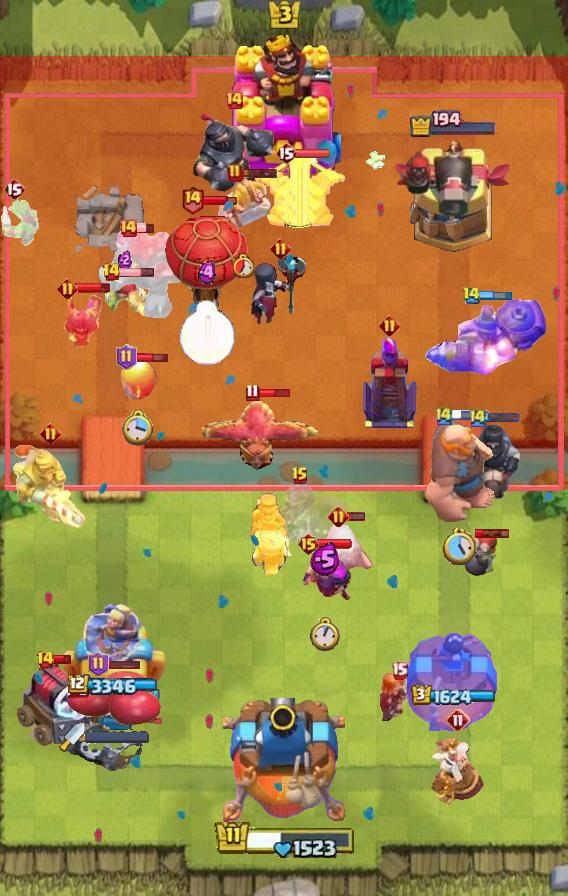balloon: (422, 416, 496, 524)
bar: (59, 595, 169, 731)
barbarian-hut: (248, 478, 352, 556)
cannon-cart: (164, 203, 250, 321)
cannoneer-tower: (96, 226, 186, 320)
clock: (214, 818, 354, 859)
electro-spirit: (310, 543, 340, 577), (198, 259, 216, 284), (118, 250, 132, 271)
elite-barbarian: (246, 492, 292, 576)
elixir: (179, 300, 236, 366), (443, 527, 477, 565), (122, 410, 154, 447), (310, 616, 340, 651), (233, 253, 255, 279)
elixir-collector: (429, 736, 487, 806)
emote: (135, 352, 170, 365), (241, 167, 278, 179), (295, 148, 331, 160), (202, 194, 238, 206), (75, 282, 111, 294), (317, 538, 353, 550), (256, 387, 291, 399), (118, 266, 155, 277), (485, 413, 521, 424), (106, 658, 142, 669), (478, 290, 513, 301), (474, 528, 509, 539), (452, 410, 490, 420), (52, 654, 72, 665), (136, 222, 155, 233), (347, 511, 366, 522)
goblin-giant: (217, 177, 270, 229)
golden-knight: (61, 291, 103, 351)
golem: (15, 658, 101, 748)
hog: (118, 358, 158, 402)
hog-rider: (375, 673, 423, 723)
ice-golem: (102, 274, 148, 316), (460, 530, 500, 578)
ice-spirit-evolution-symbol: (359, 334, 419, 430)
inferno-dragon: (457, 422, 521, 505)
king-tower: (227, 29, 341, 181), (223, 698, 345, 826)
king-tower-bar: (85, 731, 149, 743)
lava-pup: (251, 149, 349, 231)
mother-witch: (202, 398, 320, 472)
queen-tower: (407, 633, 499, 731)
ram-rider: (11, 441, 89, 531)
rascal-boy: (250, 252, 310, 328)
rascal-girl: (298, 547, 352, 605)
royal-guardian: (190, 110, 278, 196)
royal-recruit-evolution: (62, 669, 164, 777)
selected: (410, 110, 499, 138), (68, 674, 160, 698), (412, 684, 497, 706)
tesla: (324, 521, 376, 573)
text: (179, 184, 204, 215), (446, 708, 470, 732), (115, 344, 137, 370), (296, 532, 319, 556), (87, 651, 108, 677), (275, 141, 297, 165), (3, 177, 25, 201), (39, 423, 60, 445), (327, 505, 348, 527), (270, 238, 291, 259), (57, 278, 78, 299), (380, 315, 401, 336), (468, 407, 488, 429), (434, 406, 454, 427), (224, 90, 244, 110), (118, 218, 138, 238), (102, 262, 122, 282), (36, 650, 56, 670), (462, 287, 482, 305), (291, 466, 309, 486), (227, 163, 243, 183), (391, 661, 408, 679), (245, 383, 259, 401)
tower-bar: (392, 138, 514, 256)
wizard: (424, 298, 548, 376)
zap: (0, 199, 42, 247)
